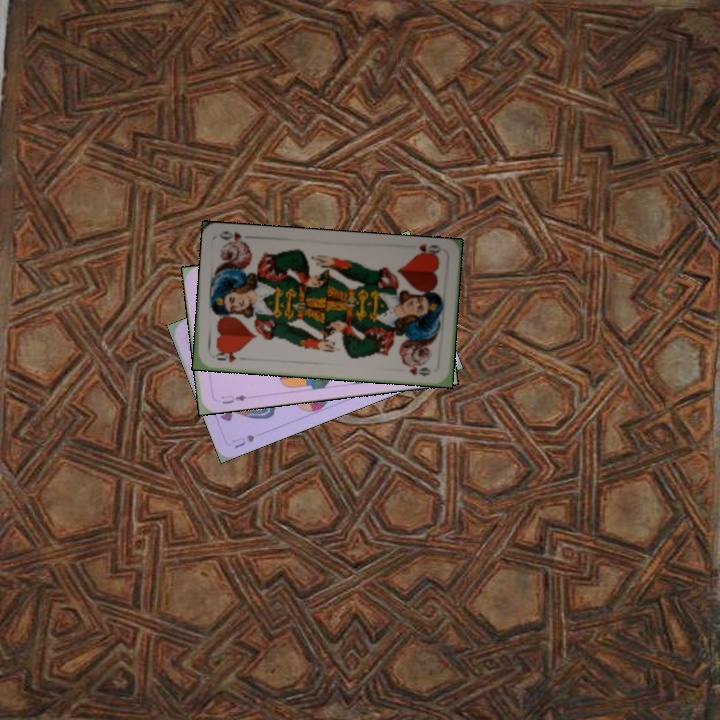EU: (217, 391, 249, 407)
HO: (411, 240, 444, 261), (211, 347, 239, 365)
SU: (228, 430, 257, 451)
